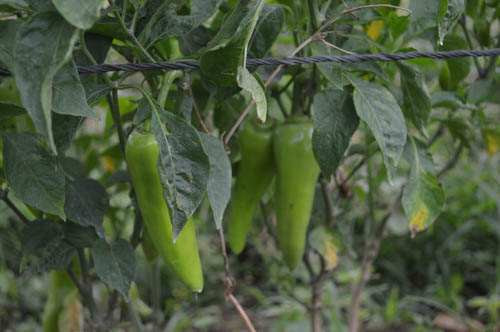ChiliPepper: (125, 134, 204, 295), (273, 125, 319, 277), (229, 124, 272, 259)
